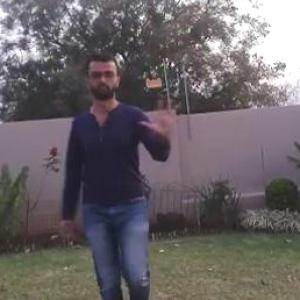follow_hand: (140, 96, 184, 138)
